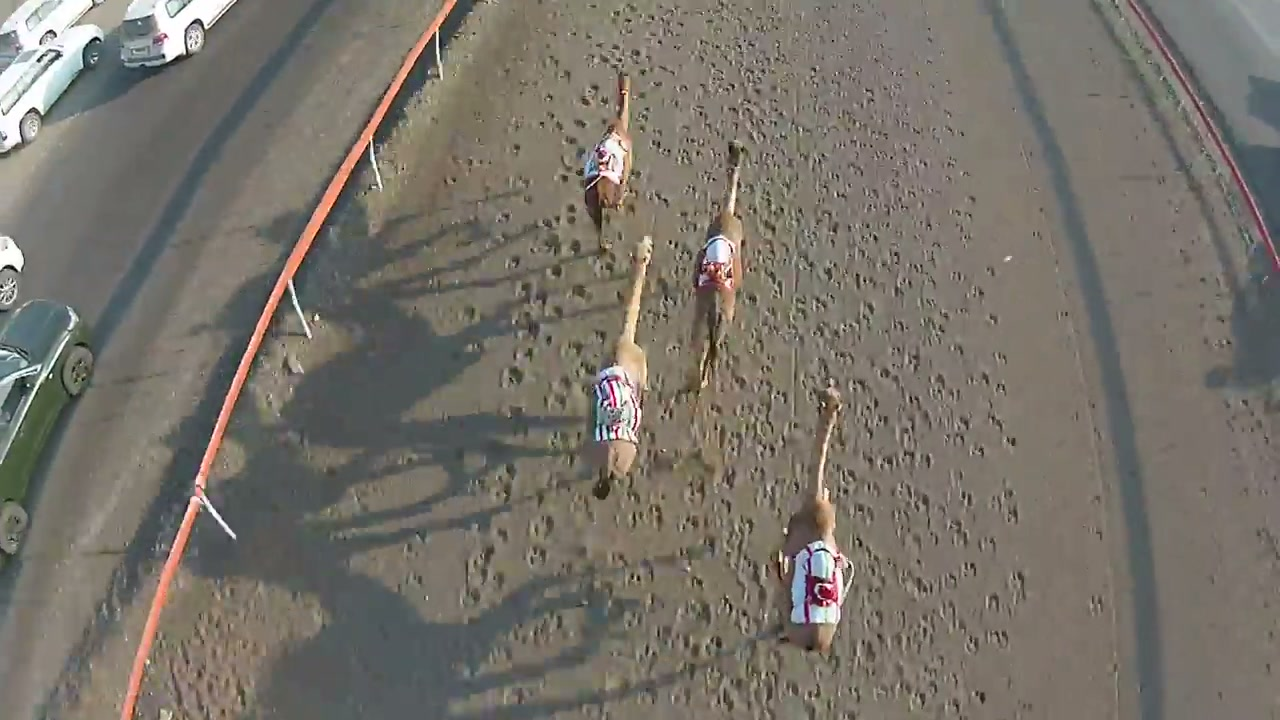animal_foot_print: (700, 38, 857, 717), (797, 58, 959, 695), (671, 24, 780, 691), (475, 86, 593, 622), (589, 72, 671, 597)
